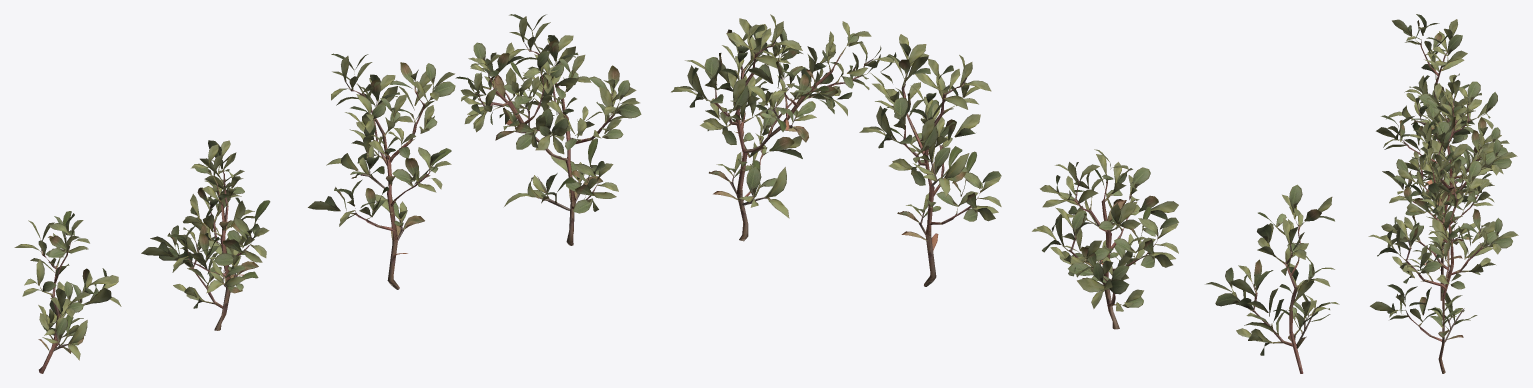
Rendered from shrub_04.glb.
3 views of the same model, side by side, from view 1: azimuth 30°, elevation 25°; view 2: azimuth 150°, elevation 25°; view 3: azimuth 270°, elevation 25° (orthographic). The views are drawn at different scales.
Parts seen in each view (by area): view 1: shrub_04; view 2: shrub_04; view 3: shrub_04.
Boxes of the visible parts, x1=… form: shrub_04: x1=14, y1=14, x2=641, y2=373; shrub_04: x1=671, y1=14, x2=1339, y2=373; shrub_04: x1=1368, y1=14, x2=1518, y2=373.
Size of the model in its own units: 0.5837 by 0.2192 by 0.1461.
1 material, 1 textured.
